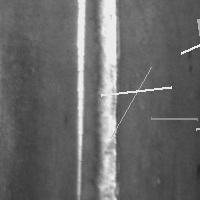scratches: (94, 1, 121, 200), (106, 62, 156, 142), (73, 1, 89, 199), (96, 82, 176, 100), (176, 21, 200, 58), (146, 113, 200, 124), (193, 14, 200, 85), (191, 107, 200, 134)
